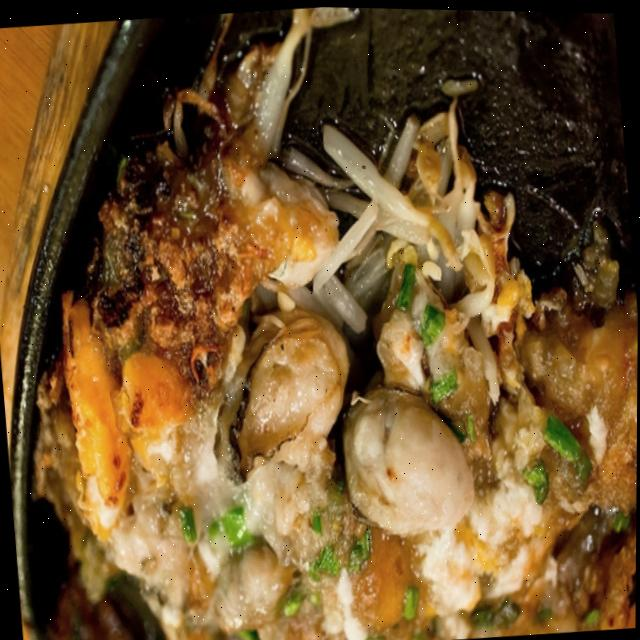鸡肉料理 含炸鸡: (0, 35, 640, 640)
